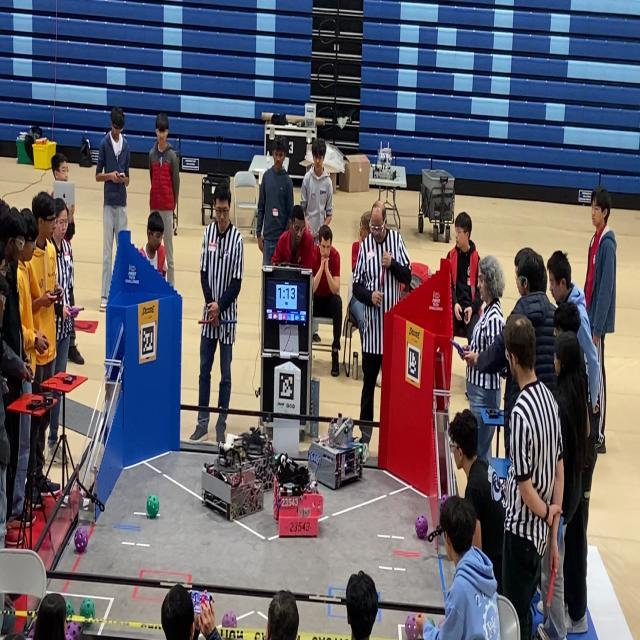artifact_green: (65, 622, 82, 639), (147, 495, 159, 518), (439, 494, 449, 510), (26, 622, 35, 639), (66, 601, 74, 618), (427, 617, 435, 626), (84, 623, 90, 626)
artifact_purple: (74, 527, 88, 553), (405, 615, 418, 639), (416, 515, 428, 539), (66, 622, 81, 639), (222, 611, 236, 628), (27, 622, 35, 638), (440, 495, 448, 509), (65, 632, 73, 639)
